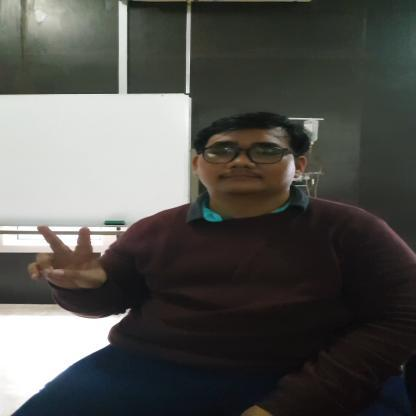V: (25, 225, 107, 291)
